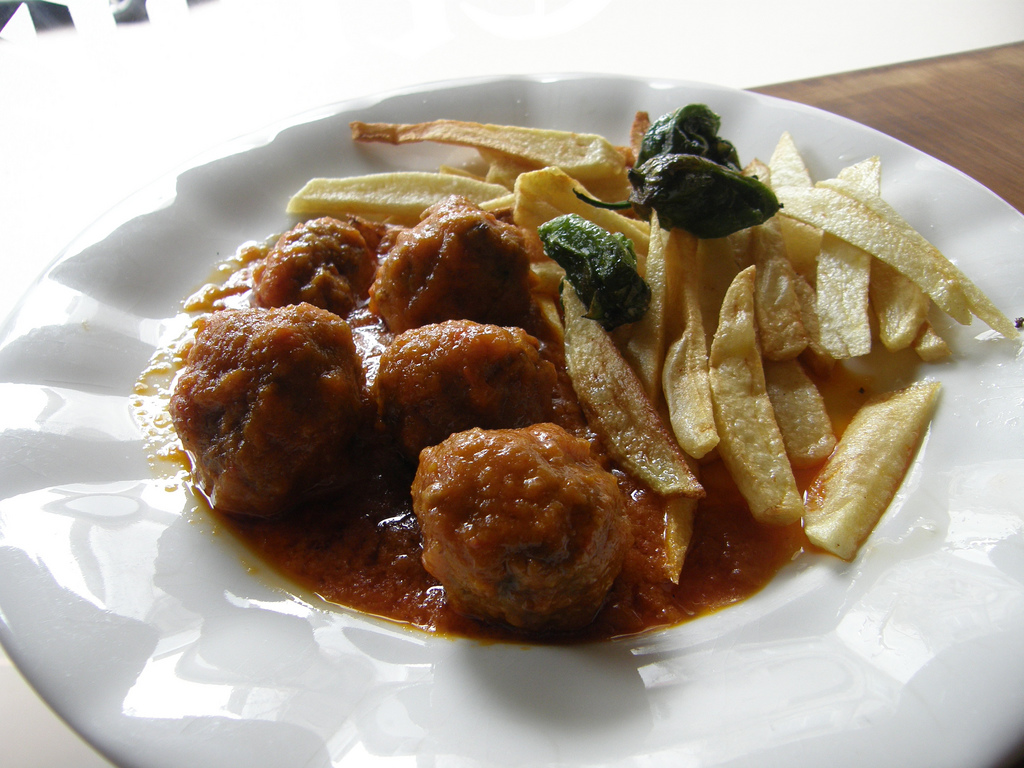meatballs: (378, 443, 614, 622), (175, 291, 342, 522), (373, 240, 542, 425)
